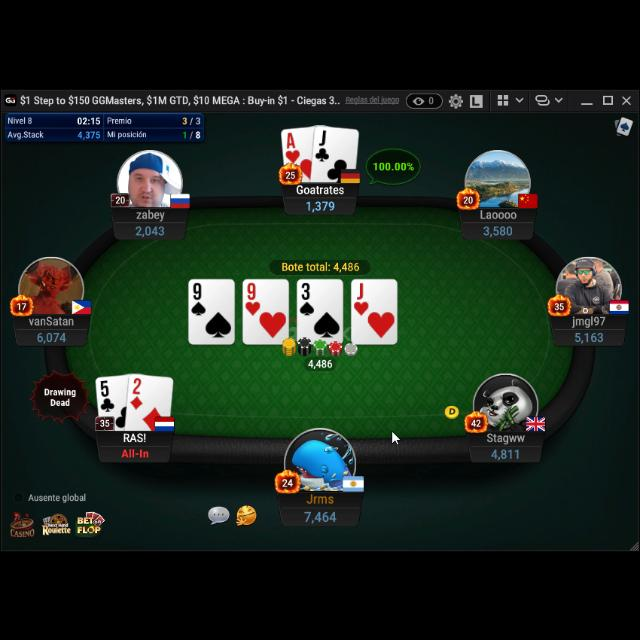2d: (130, 374, 144, 408)
3s: (298, 278, 314, 314)
5c: (99, 376, 117, 412)
9h: (244, 280, 262, 316)
9s: (190, 278, 208, 316)
Ah: (284, 128, 302, 164)
Jc: (314, 126, 331, 162)
Jh: (353, 278, 369, 314)
all_in_symbol: (120, 446, 150, 459)
bet_text: (308, 355, 334, 367)
dealer: (443, 402, 461, 418)
pot_text: (281, 258, 361, 270)
stack_text: (302, 507, 338, 523), (36, 328, 68, 342), (574, 327, 606, 341), (134, 221, 166, 235), (490, 446, 520, 460), (306, 197, 336, 211), (482, 222, 514, 234)
